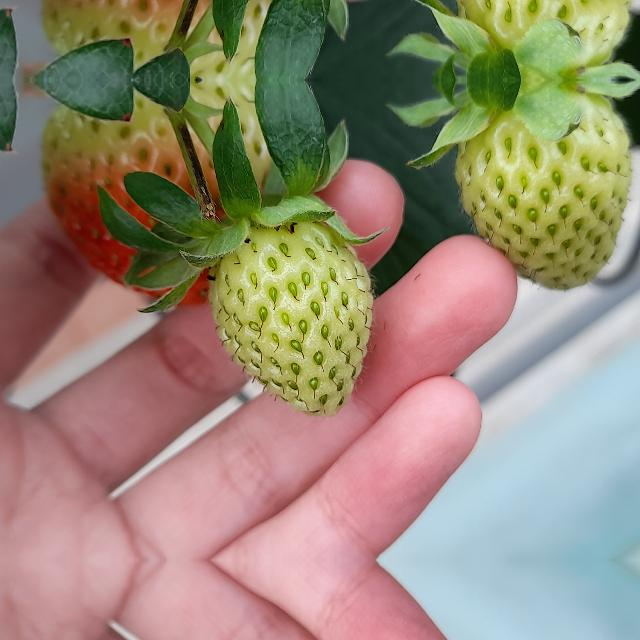Health_25: (455, 80, 631, 292), (209, 220, 373, 416), (455, 0, 631, 80)
Health_75: (42, 80, 296, 308), (42, 0, 295, 80)
